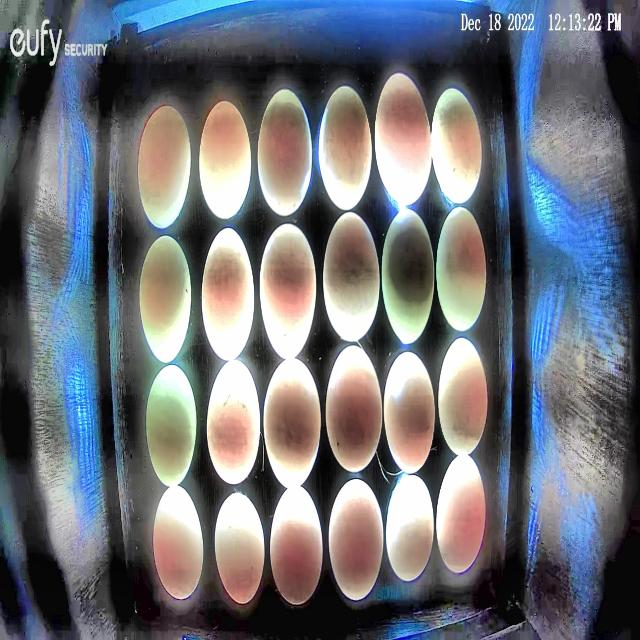UF: (258, 222, 319, 360), (374, 71, 433, 207), (263, 357, 322, 490), (256, 87, 315, 218), (325, 345, 384, 475), (201, 226, 256, 363), (323, 212, 380, 344), (381, 208, 435, 346), (138, 234, 193, 365), (206, 358, 262, 486), (328, 476, 384, 602), (318, 84, 373, 212), (138, 103, 192, 230), (383, 350, 437, 476), (198, 98, 252, 222), (144, 367, 198, 487), (436, 206, 487, 332), (431, 86, 484, 206), (270, 487, 324, 604), (438, 336, 488, 458), (436, 452, 486, 574), (152, 486, 205, 601), (213, 491, 266, 605), (386, 472, 435, 582)
